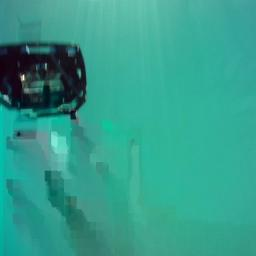Side: (0, 40, 88, 123)
